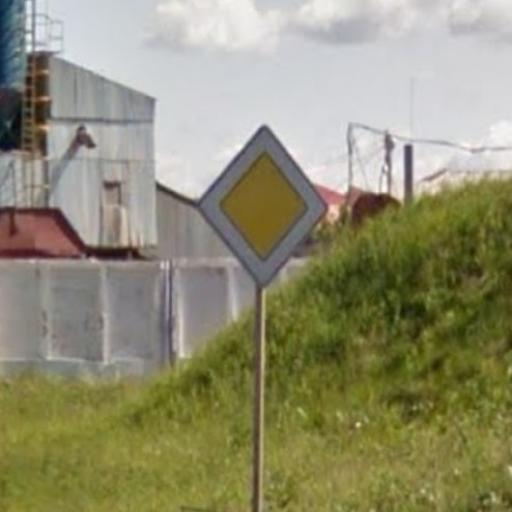traffic_sign: (197, 125, 330, 288)
